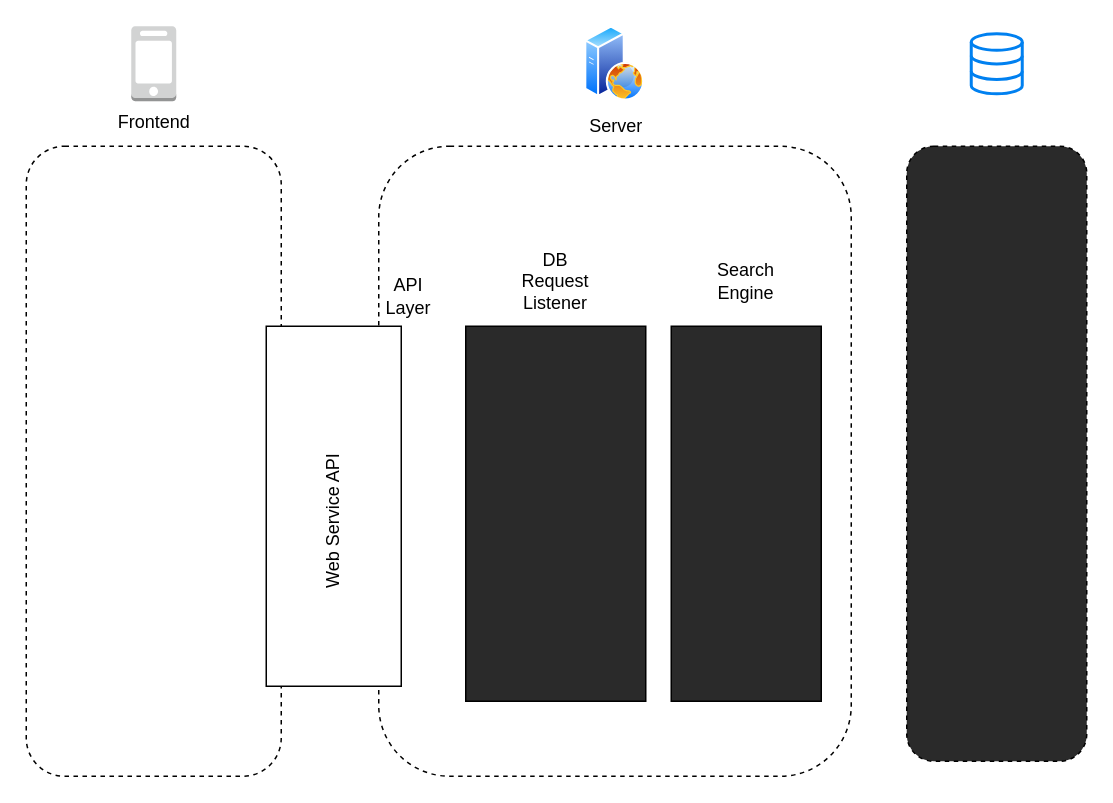
The diagram is 1113 pixels wide and 803 high, and some of its shapes have lost their labels. The shapes that lost their labels are listed below. From the top down, each one's box as (x1, y1, x2, y2) in pixels, then its label:
(969, 32, 1023, 94): Database
(905, 145, 1087, 761): AR Configs and Graphics
